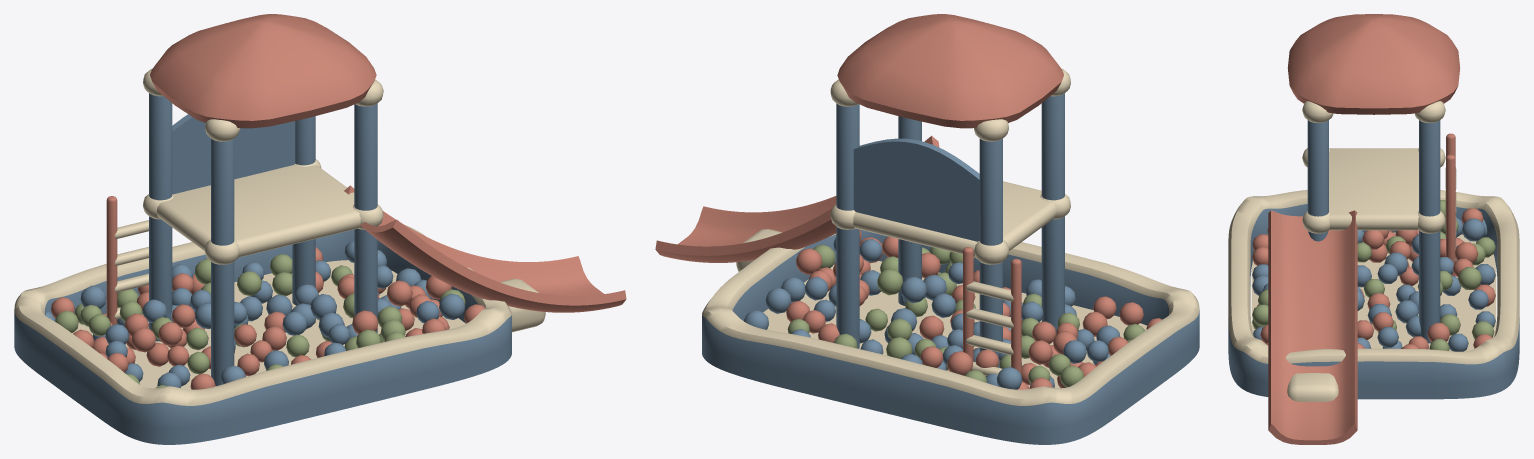
File: playroom-soft-play-upgrade.glb
3 views of the same model, side by side, from view 1: azimuth 30°, elevation 25°; view 2: azimuth 150°, elevation 25°; view 3: azimuth 270°, elevation 25° (orthographic). The views are drawn at different scales.
Visible parts, largest first — view 1: SoftSlideTower body, RoundedBallPit body; view 2: RoundedBallPit body, SoftSlideTower body; view 3: SoftSlideTower body, RoundedBallPit body.
Boxes of the visible parts, box(x1,y1,x2,y2) form: SoftSlideTower body: box(106, 14, 626, 385); RoundedBallPit body: box(14, 225, 511, 444); RoundedBallPit body: box(702, 229, 1199, 444); SoftSlideTower body: box(655, 14, 1070, 375); SoftSlideTower body: box(1268, 14, 1460, 444); RoundedBallPit body: box(1228, 190, 1519, 399).
Bounding box in the file's own units: 9.73 × 6.13 × 5.5.
